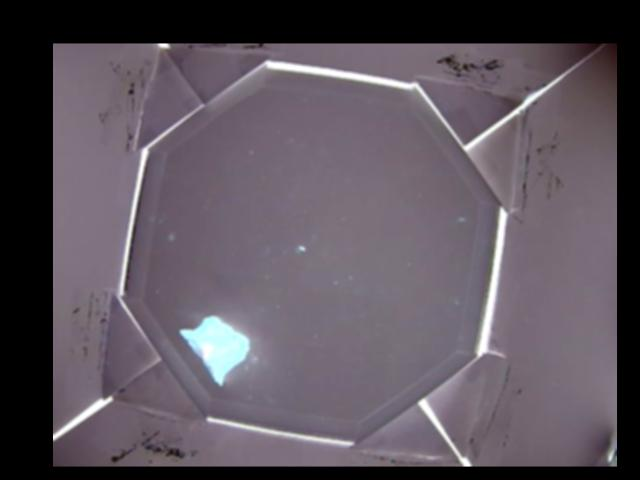Brisk: (180, 314, 248, 386)
